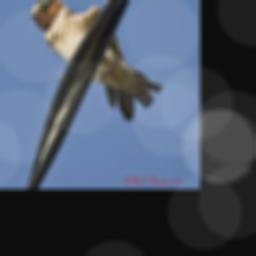Swallow: (28, 0, 164, 123)
